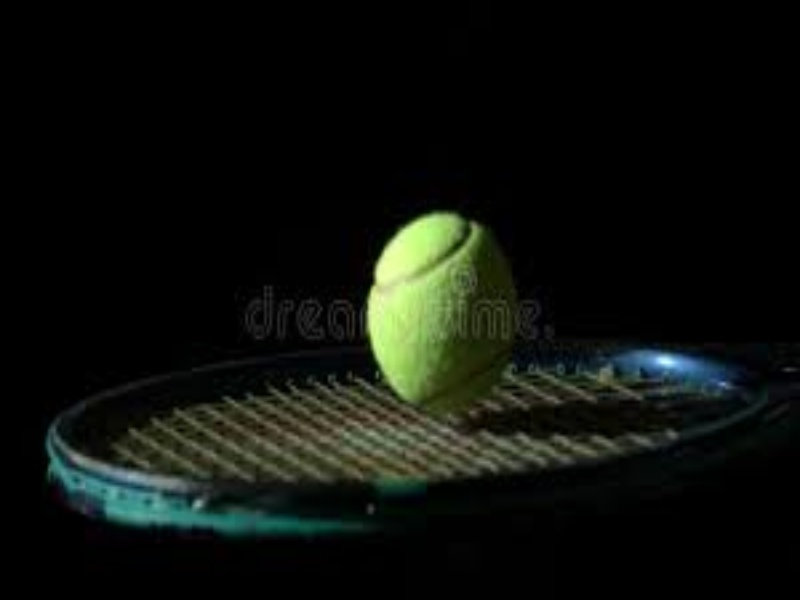tennis ball: (356, 197, 530, 419)
